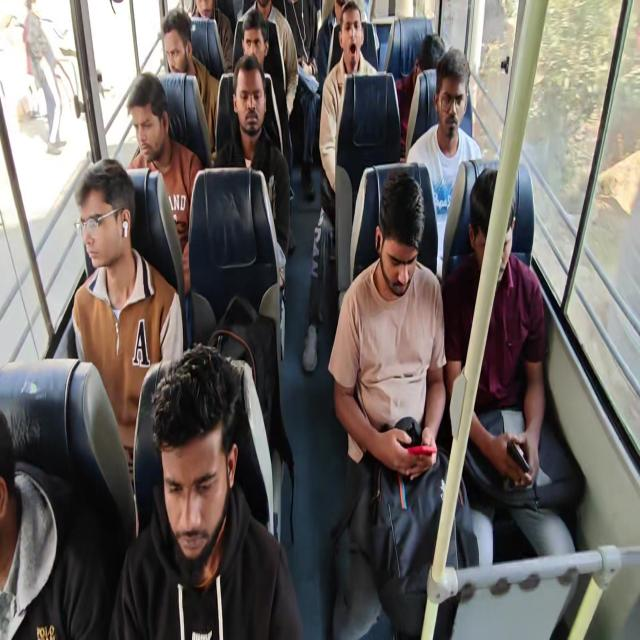person: (146, 336, 245, 570), (71, 161, 146, 294), (460, 159, 519, 294), (378, 168, 424, 306), (125, 77, 177, 167), (437, 46, 477, 145), (156, 8, 203, 76), (340, 0, 375, 69), (232, 58, 262, 135), (414, 31, 451, 89), (241, 6, 272, 66)
